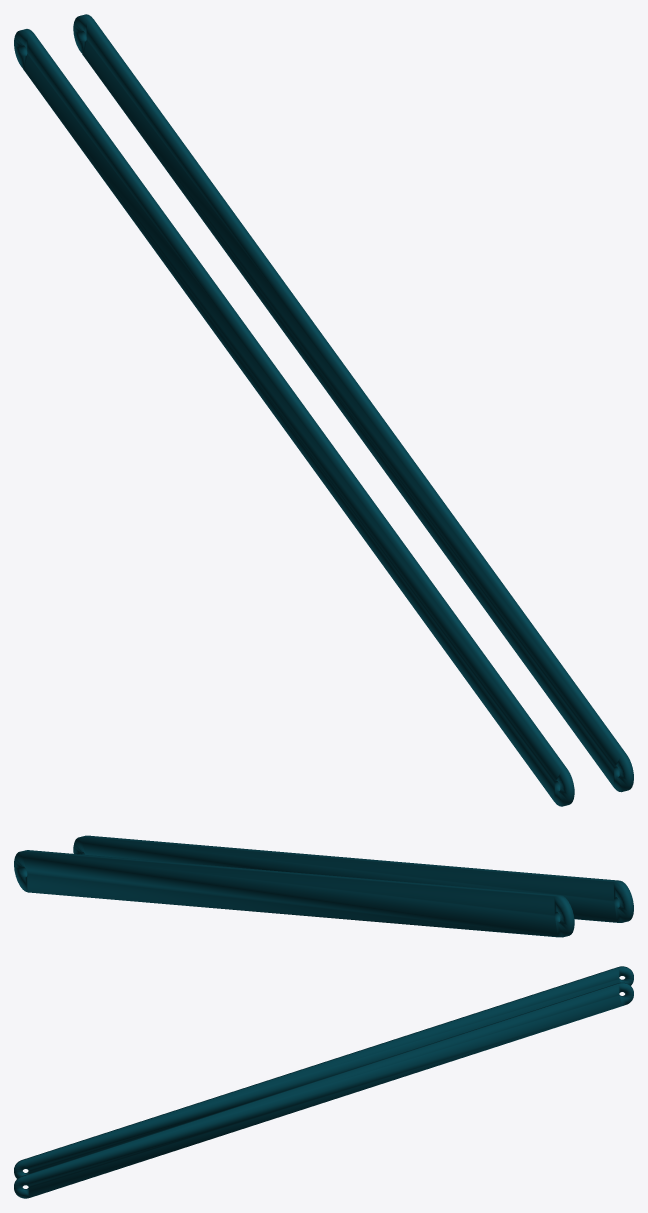
Rendered from brace_3.dae.
3 renders of one model, top to bottom at view 1: azimuth 30°, elevation 25°; view 2: azimuth 210°, elevation 25°; view 3: azimuth 270°, elevation 25°, orthographic. The views are drawn at different scales.
Visible parts, largest first — view 1: brace.003; view 2: brace.003; view 3: brace.003.
Boxes of the visible parts, bbox=[...] form: brace.003: bbox=[14, 14, 633, 806]; brace.003: bbox=[14, 835, 633, 937]; brace.003: bbox=[14, 966, 633, 1198].
Size of the model in its own units: 0.02 by 0.291 by 0.111.
